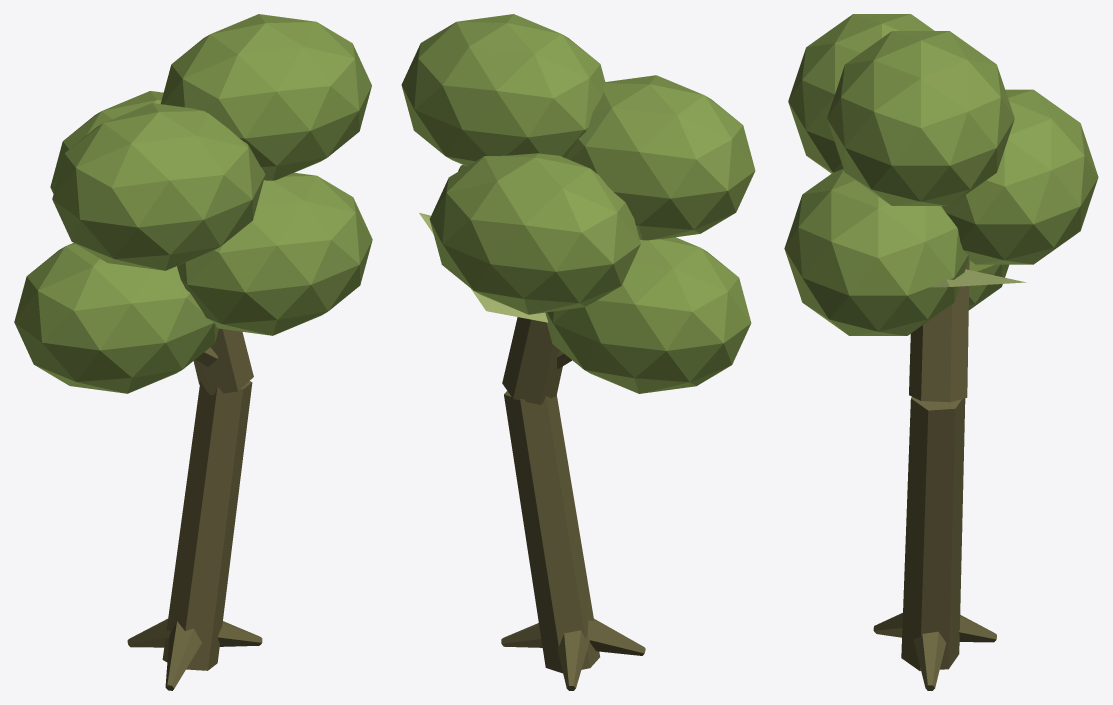
The model's file is map-boundaries-v5__meadow_09.glb.
3 views of the same model, side by side, from view 1: azimuth 30°, elevation 25°; view 2: azimuth 150°, elevation 25°; view 3: azimuth 270°, elevation 25° (orthographic). The views are drawn at different scales.
Parts seen in each view (by area): view 1: meadow_09; view 2: meadow_09; view 3: meadow_09.
Part boxes in pixels (x1=…): meadow_09: x1=14, y1=14, x2=372, y2=690; meadow_09: x1=401, y1=14, x2=755, y2=690; meadow_09: x1=784, y1=14, x2=1098, y2=690.
Size of the model in its own units: 2.02 by 3.69 by 1.61.
